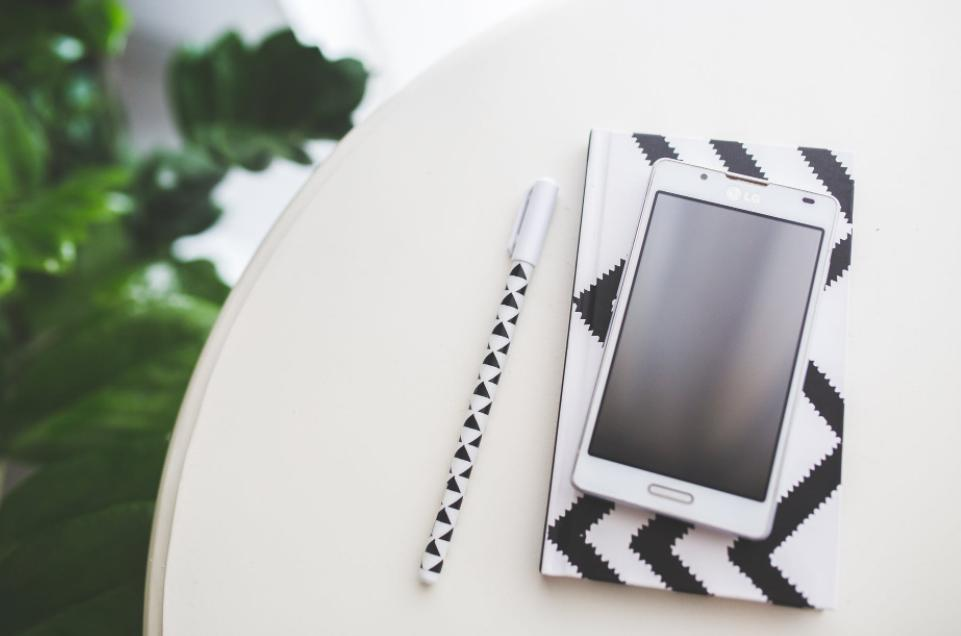mobile: (573, 158, 841, 540)
